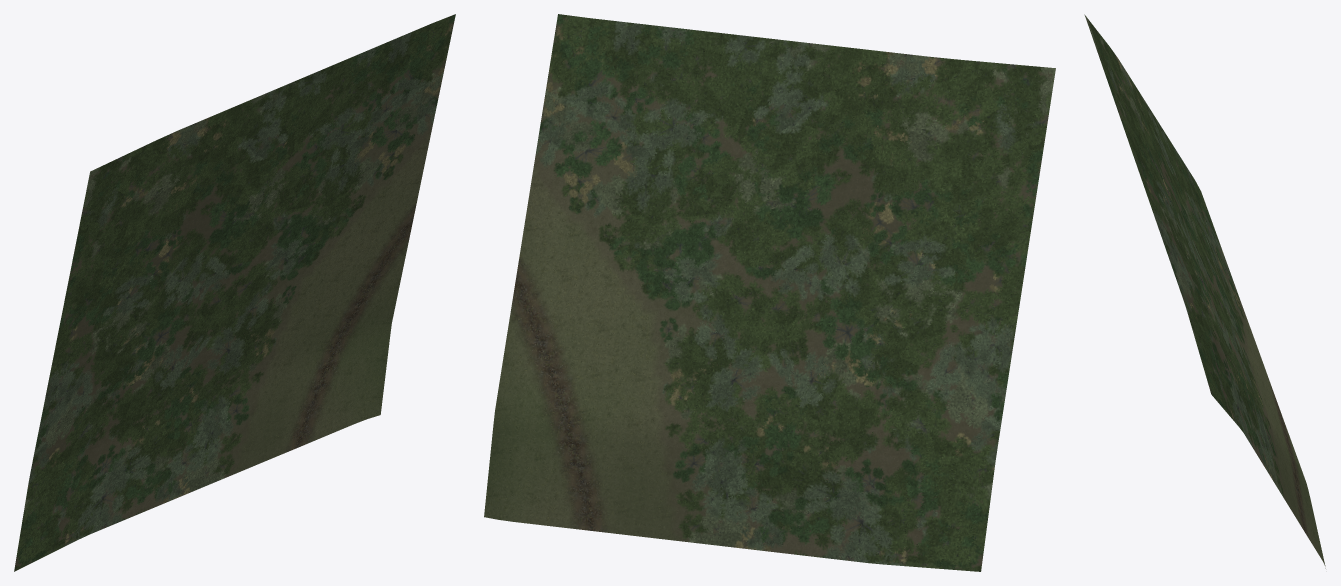
The model's file is terrain_core_04_07.obj.
3 renders of one model, left to right at view 1: azimuth 30°, elevation 25°; view 2: azimuth 150°, elevation 25°; view 3: azimuth 270°, elevation 25°, orthographic. The views are drawn at different scales.
Visible parts, largest first — view 1: terrain_core_04_07; view 2: terrain_core_04_07; view 3: terrain_core_04_07.
Part boxes in pixels (x1,y1,x2,y2): terrain_core_04_07: [14, 14, 455, 571]; terrain_core_04_07: [484, 14, 1055, 571]; terrain_core_04_07: [1084, 14, 1325, 568].
Size of the model in its own units: 32 by 32 by 18.47.
Materials: 1 (1 with a texture image).
